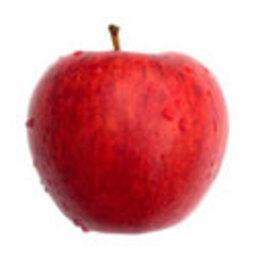apple: (28, 47, 230, 235)
